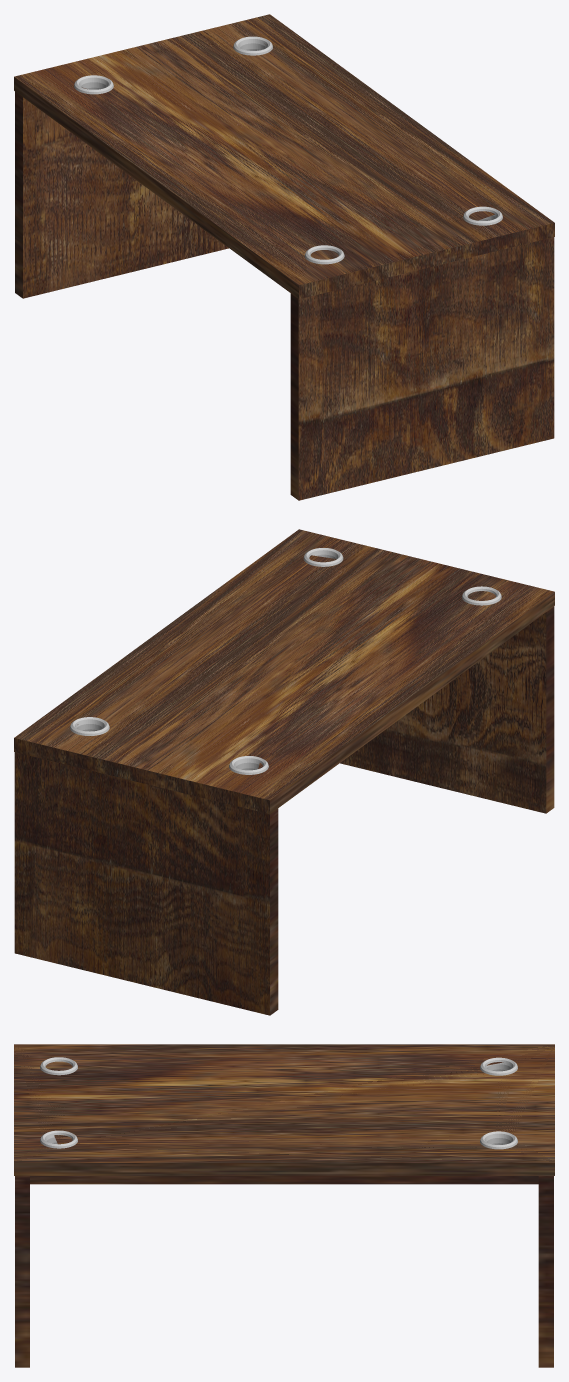
The model's file is table1.fbx.
3 views of the same model, one above another, from view 1: azimuth 30°, elevation 25°; view 2: azimuth 150°, elevation 25°; view 3: azimuth 270°, elevation 25° (orthographic). The views are drawn at different scales.
Visible parts, largest first — view 1: Cube.001; view 2: Cube.001; view 3: Cube.001.
Boxes of the visible parts, x1,y1,x2,y2 form: Cube.001: (14,14,554,500); Cube.001: (14,529,554,1015); Cube.001: (14,1044,554,1367).
Bounding box in the file's own units: 84.81 × 69.41 × 164.
